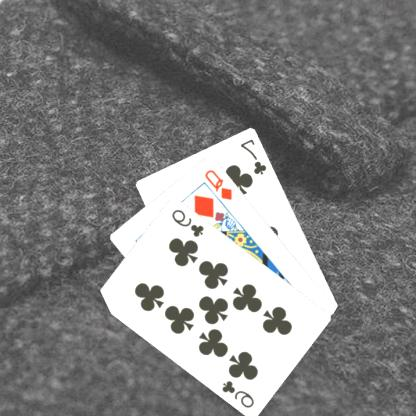7C: (240, 136, 270, 176)
9C: (170, 206, 208, 238), (221, 377, 257, 409)
QD: (204, 166, 235, 201)
